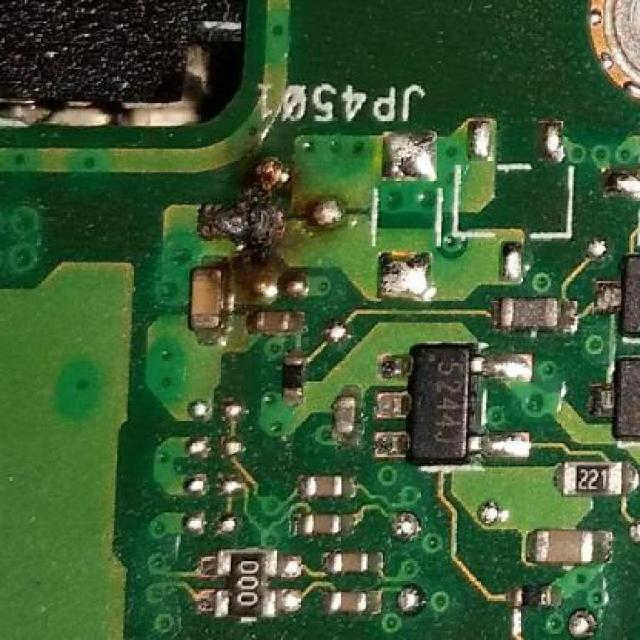Burn: (180, 144, 314, 290)
